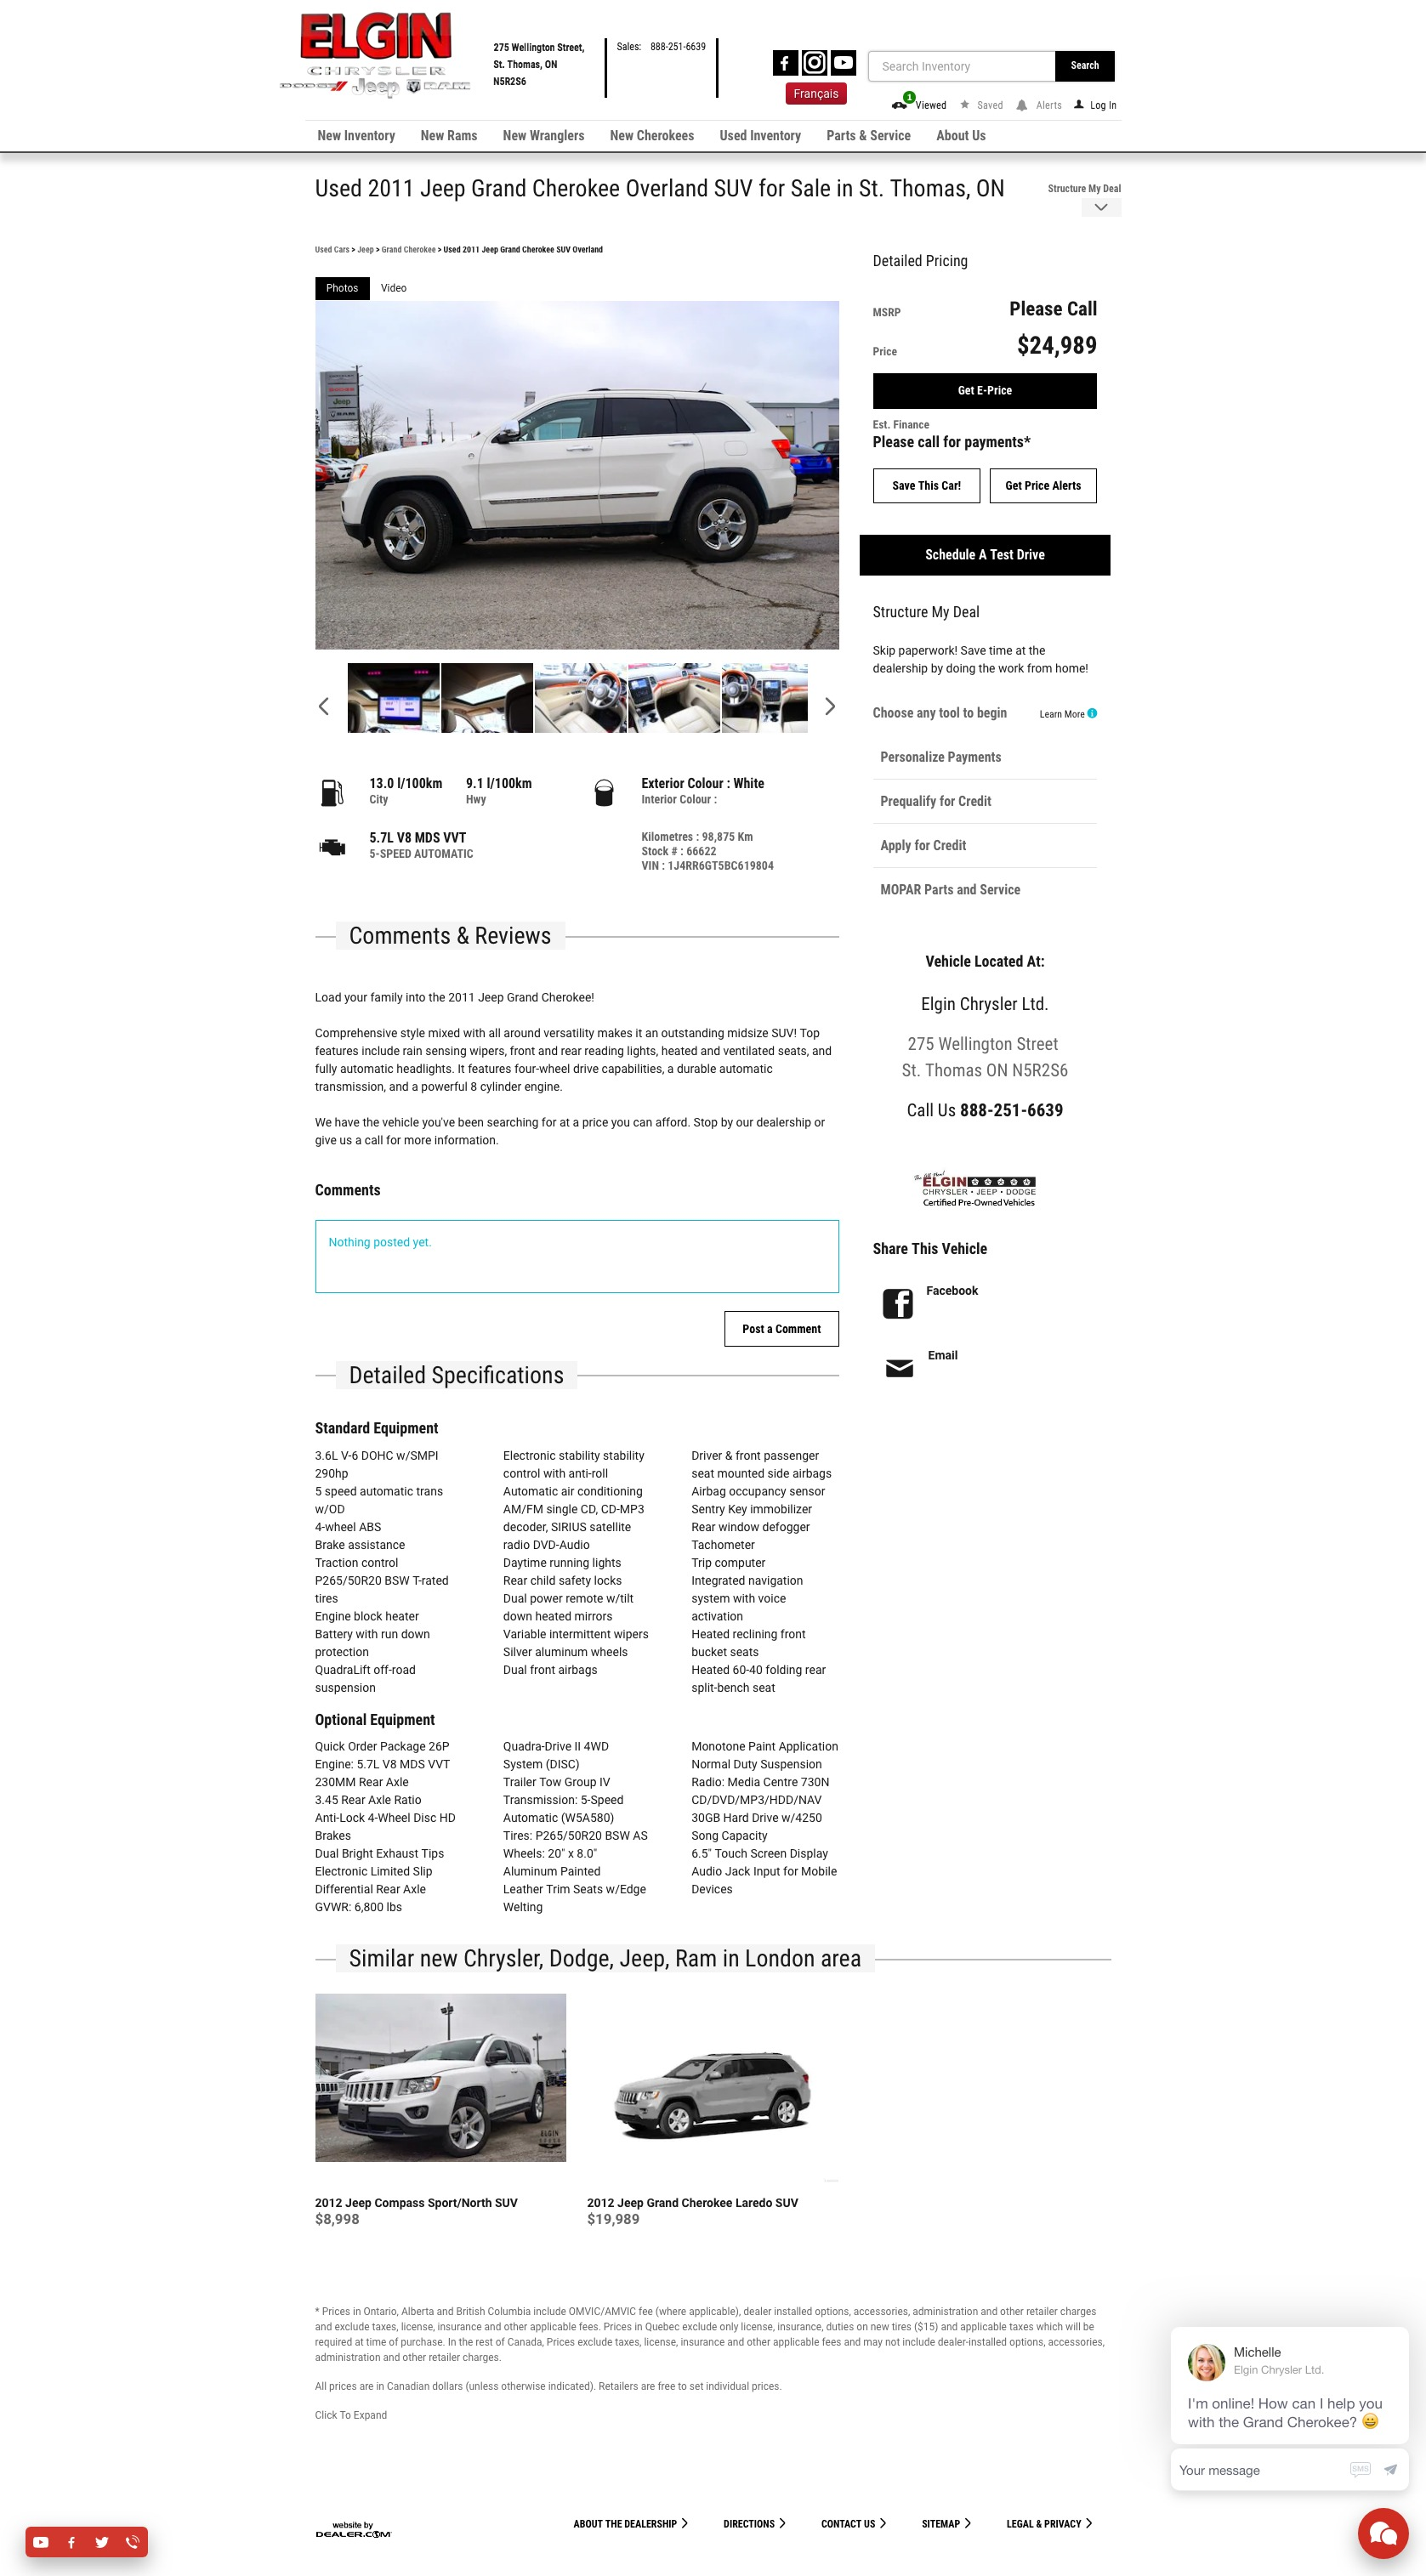car: (825, 697, 836, 716)
